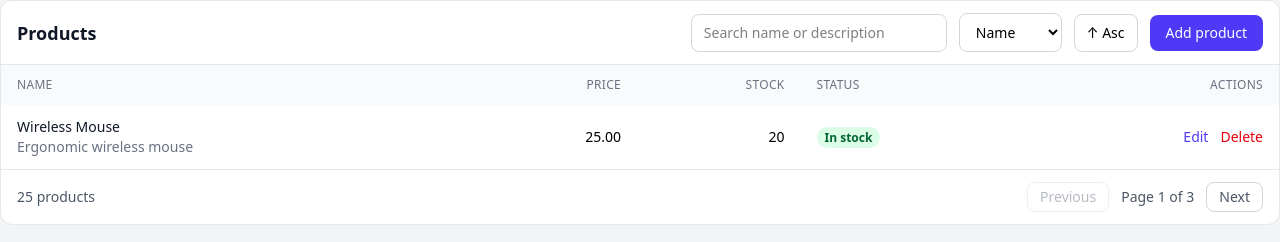
Test: ProductTable › sorts and pages on the server
Check: the text "Wireless Mouse" is shown, box [17,117,120,136]
Select "Price" in the dropdown named "Sort by": (1010, 32) [959,13,1062,52]
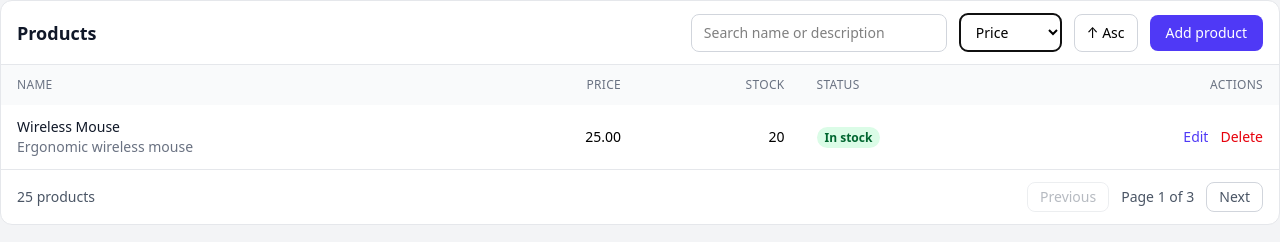
Click the button with aria-label "Ascending": (1106, 32) [1074,14,1138,52]
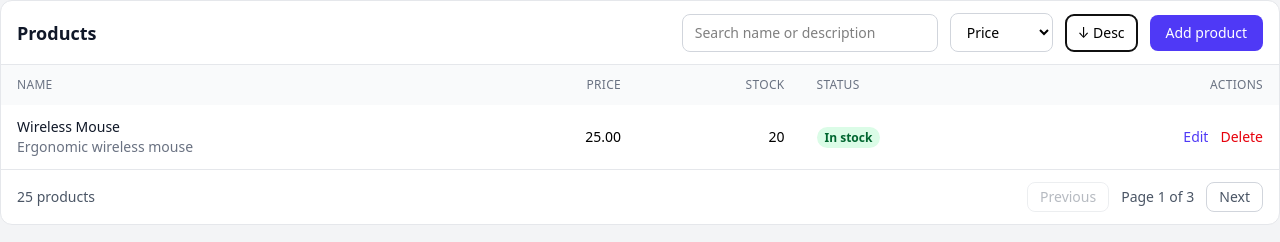
Click the button "Next": (1235, 197) [1206,182,1263,212]
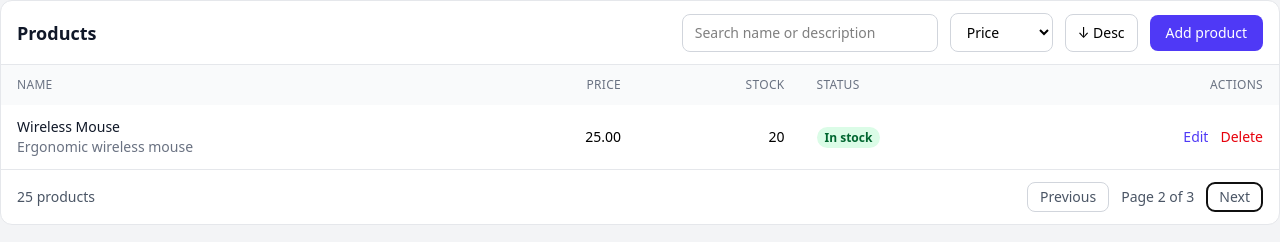
Check: the text "Page 2 of 3" is shown, box [1121,187,1194,207]
